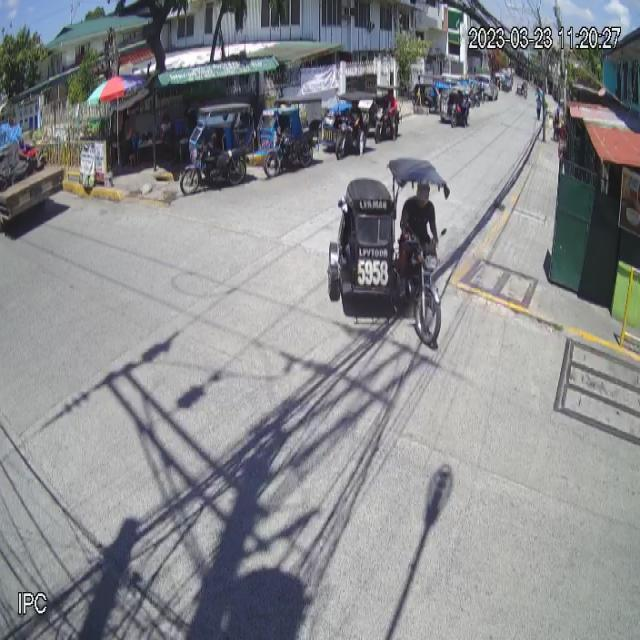Tricycle: (326, 158, 450, 346)
